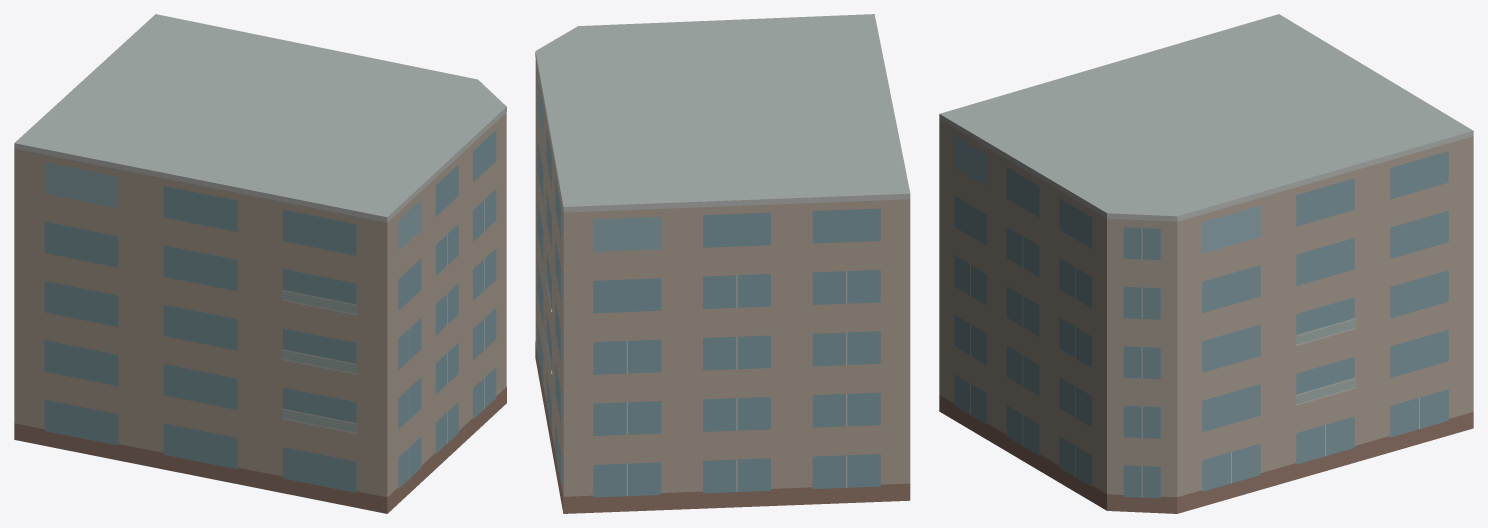
File: survey-upis-32802454.glb
3 views of the same model, side by side, from view 1: azimuth 30°, elevation 25°; view 2: azimuth 150°, elevation 25°; view 3: azimuth 270°, elevation 25° (orthographic). The views are drawn at different scales.
Visible parts, largest first — view 1: survey-upis-32802454.tmp; view 2: survey-upis-32802454.tmp; view 3: survey-upis-32802454.tmp.
Part boxes in pixels (x1,y1,x2,y2): survey-upis-32802454.tmp: (14, 14, 506, 513); survey-upis-32802454.tmp: (535, 14, 910, 513); survey-upis-32802454.tmp: (939, 14, 1473, 513).
Size of the model in its own units: 19.39 by 13.3 by 21.64.
